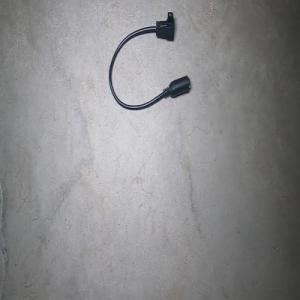Wire: (108, 11, 190, 110)
